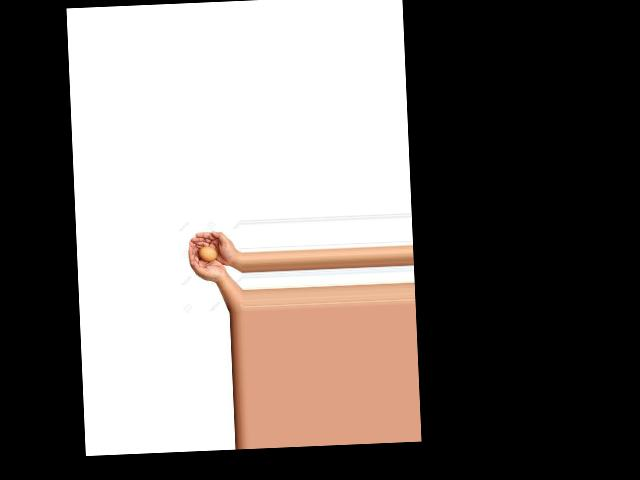egg: (199, 246, 217, 262)
